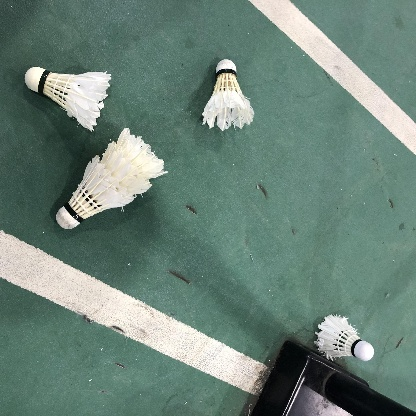ball_single: (56, 128, 168, 229), (25, 67, 112, 131), (202, 59, 255, 131), (314, 315, 374, 361)
